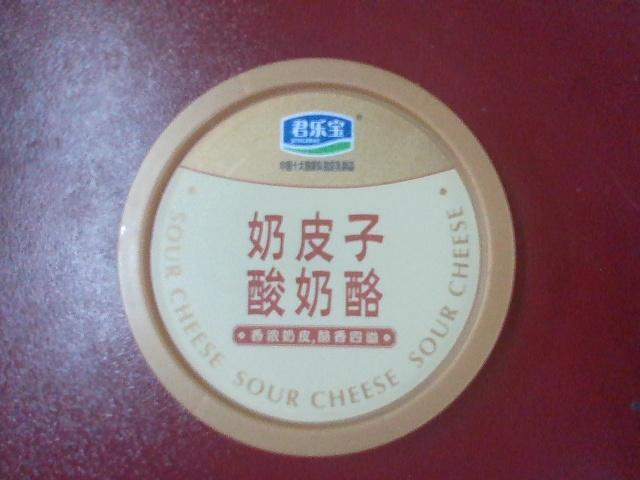lid: (109, 57, 530, 467)
